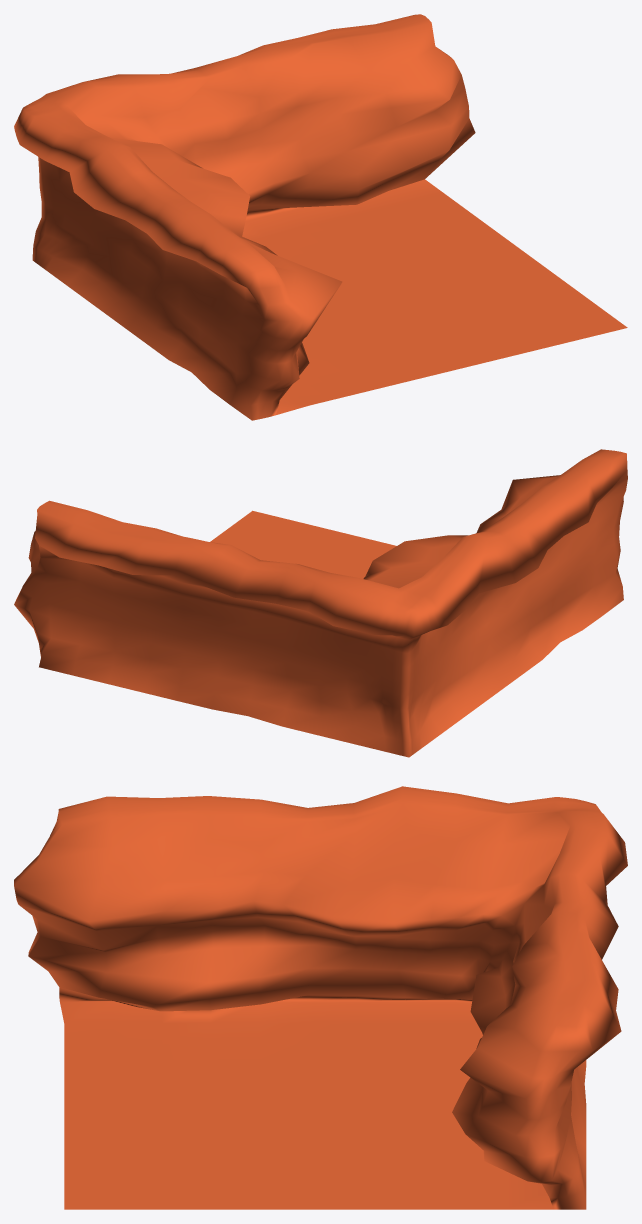
The model's file is Clif_InsideCorner.fbx.
3 views of the same model, one above another, from view 1: azimuth 30°, elevation 25°; view 2: azimuth 150°, elevation 25°; view 3: azimuth 270°, elevation 25° (orthographic). The views are drawn at different scales.
Visible parts, largest first — view 1: InsideCorner_Clif; view 2: InsideCorner_Clif; view 3: InsideCorner_Clif.
Boxes of the visible parts, x1,y1,x2,y2 form: InsideCorner_Clif: (14, 14, 627, 420); InsideCorner_Clif: (14, 449, 627, 757); InsideCorner_Clif: (14, 786, 627, 1209).
Bounding box in the file's own units: 1930 × 681 × 1881.
